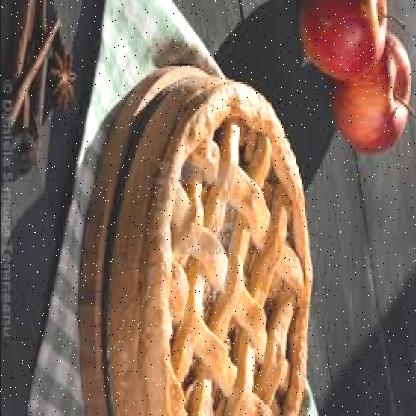apple: (330, 43, 412, 166), (301, 2, 393, 80)
